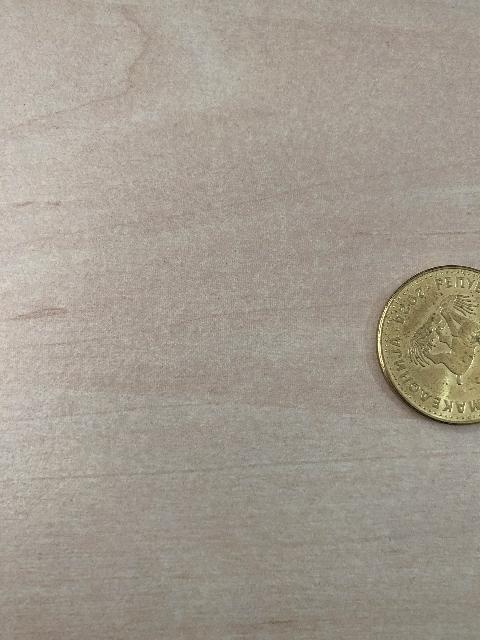coin: (377, 266, 479, 424)
